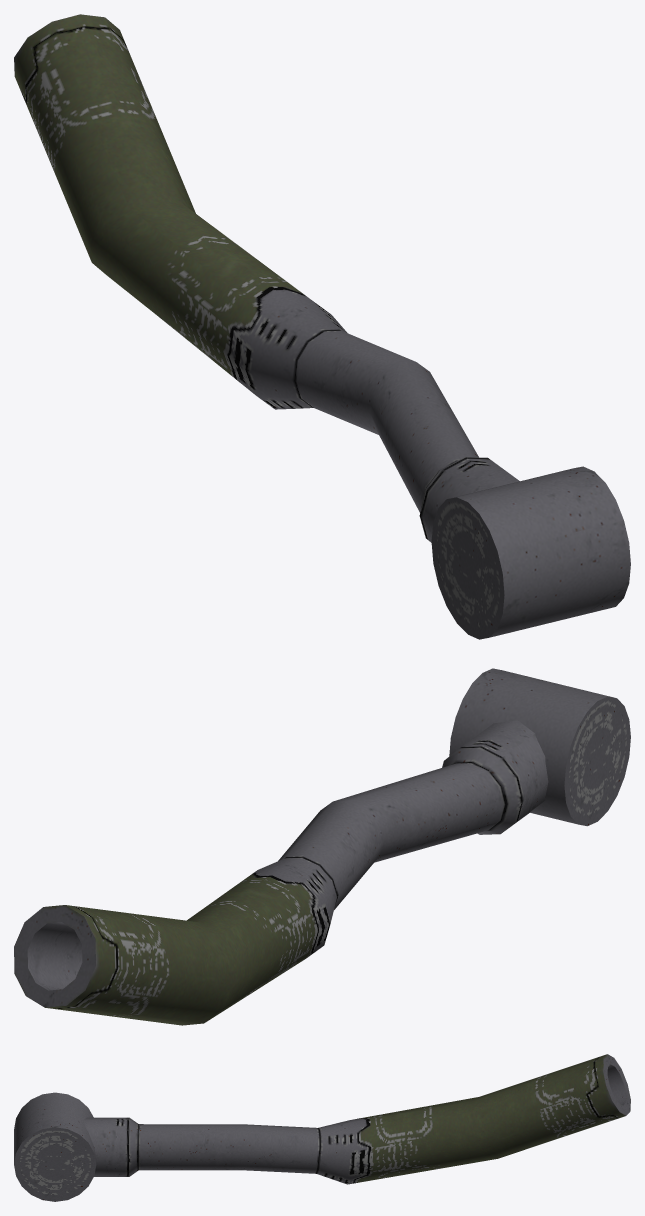
File: HoverTankCannonBroken.fbx
The picture shows the model from 3 angles, top to bottom: view 1: azimuth 30°, elevation 25°; view 2: azimuth 150°, elevation 25°; view 3: azimuth 270°, elevation 25°; orthographic projection. The views are drawn at different scales.
Parts seen in each view (by area): view 1: HoverTankBarrel3; view 2: HoverTankBarrel3; view 3: HoverTankBarrel3.
Boxes of the visible parts, x1,y1,x2,y2 form: HoverTankBarrel3: [14, 14, 630, 639]; HoverTankBarrel3: [14, 668, 630, 1025]; HoverTankBarrel3: [14, 1054, 630, 1201].
Bounding box in the file's own units: 0.0995 × 0.1562 × 0.6439.
